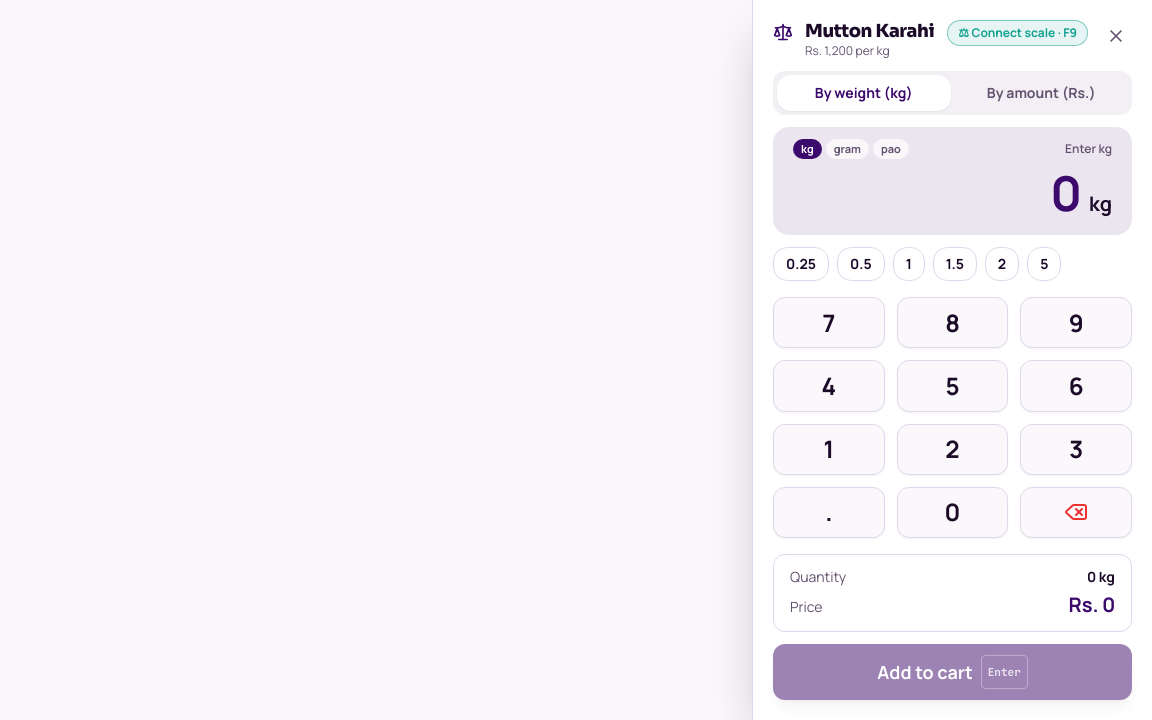
Test case: the panel › the on-screen keypad, grams, Esc closes
This screenshot has width=1152, height=720.
Later steps or results of the test are not shown.
Click the radio button labelled "gram": point(847, 149) [826,138,869,159]
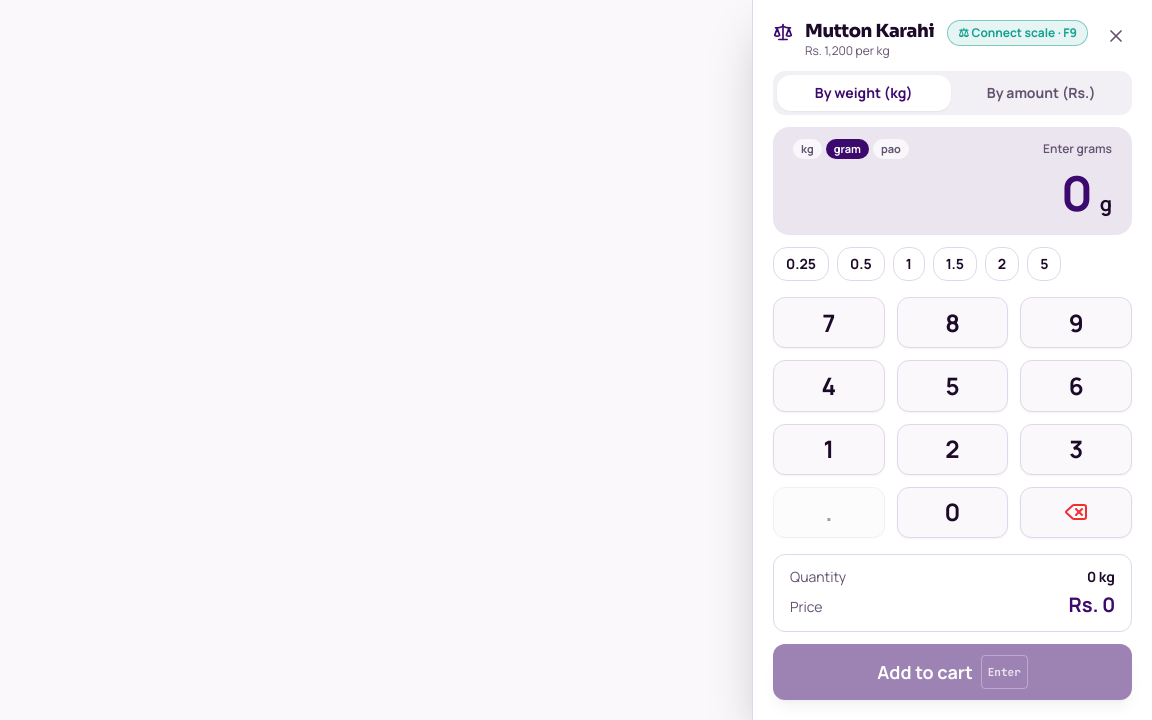
Click the button "7": point(829, 323) [773,297,885,348]
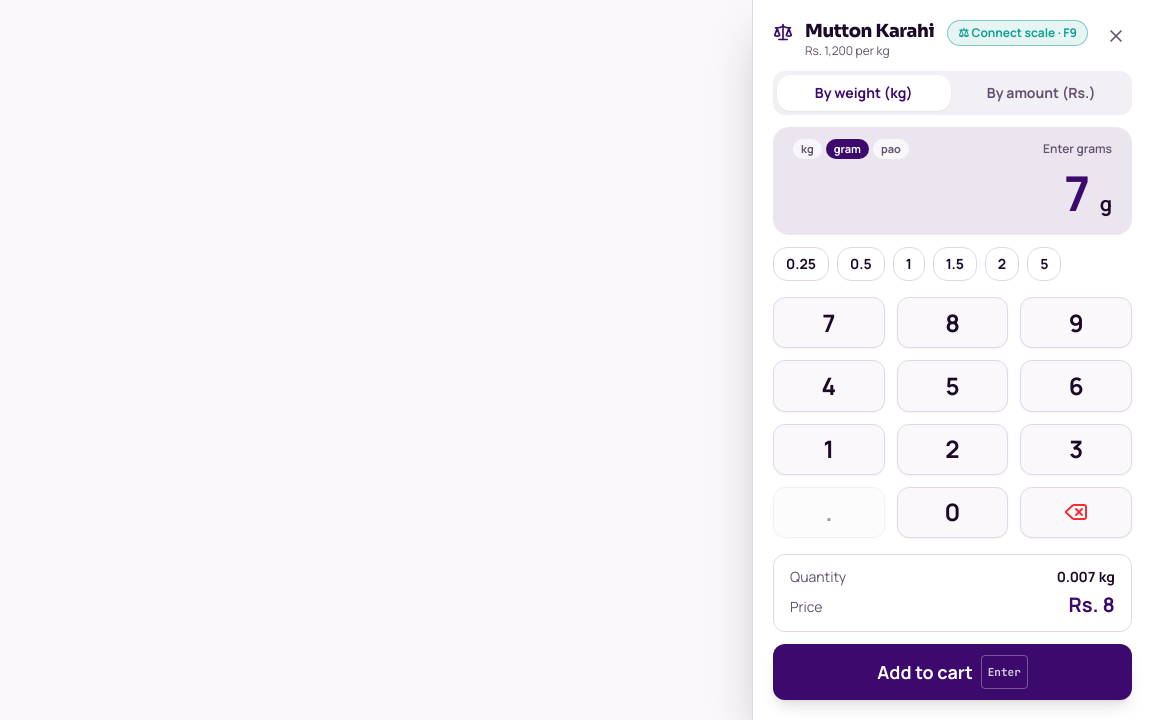
Click the 2nd button "5": point(953, 386) [897,360,1008,412]
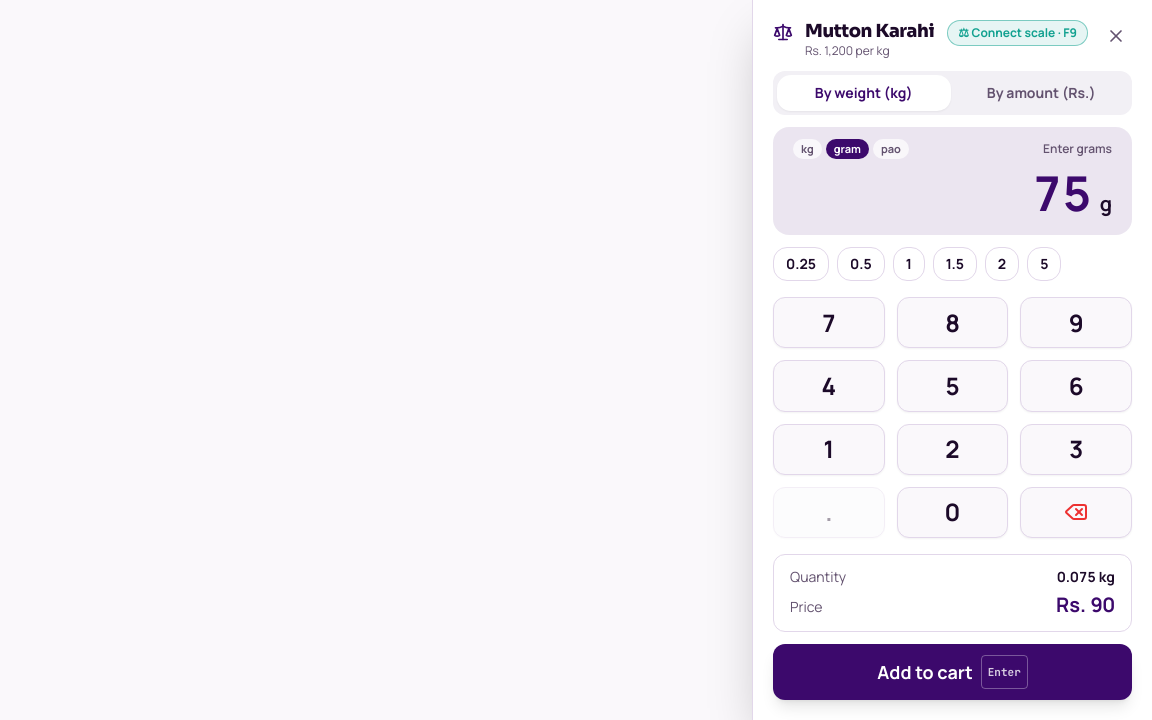
Click the button "0": point(953, 512) [897,487,1008,538]
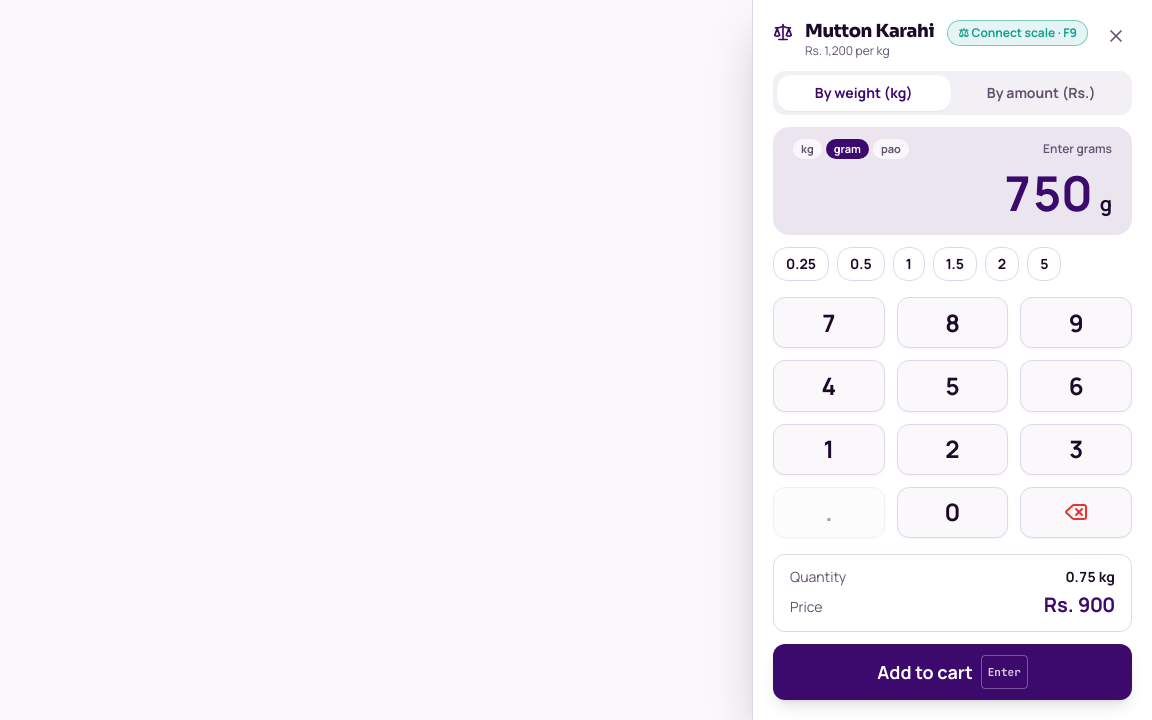
expect the text "0.75 kg" is shown: met, box [1066,567,1115,587]
expect the text "Rs. 900" is shown: met, box [1044,591,1115,619]
Click the button named "Delete": point(1076, 512) [1020,487,1132,538]
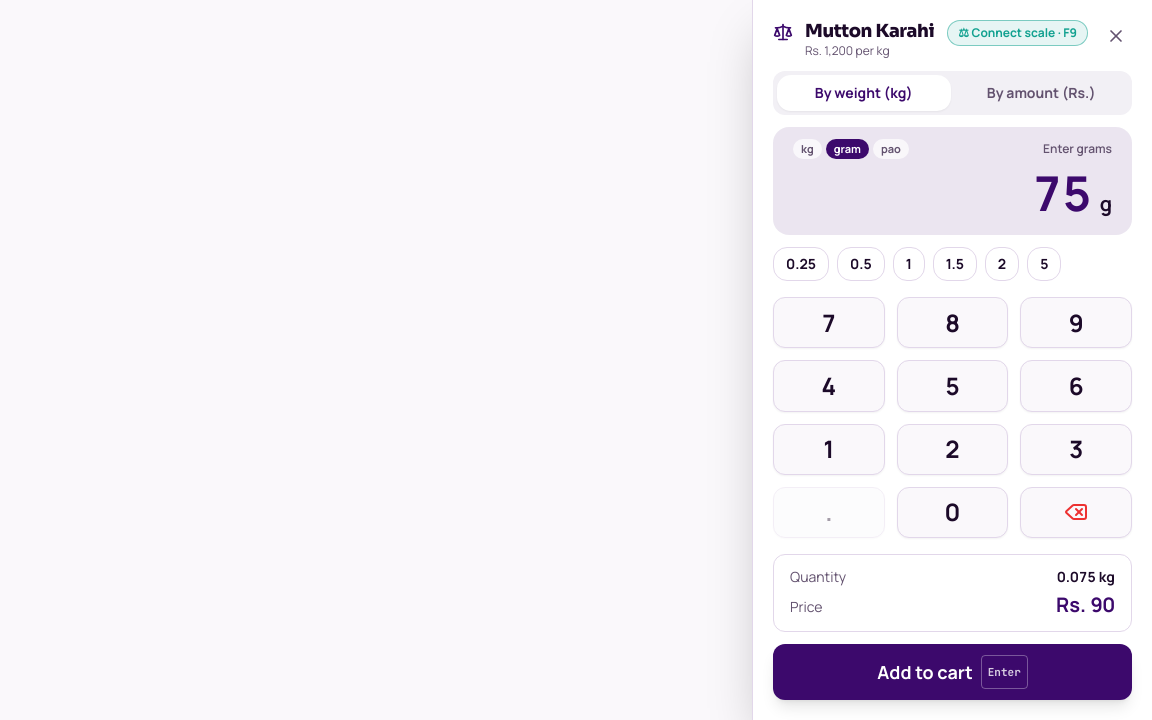
expect the text "75" is shown: met, box [1032,163,1092,223]
